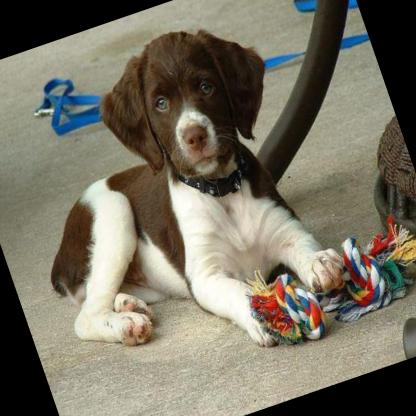Brittany_spaniel: (0, 0, 362, 408)
